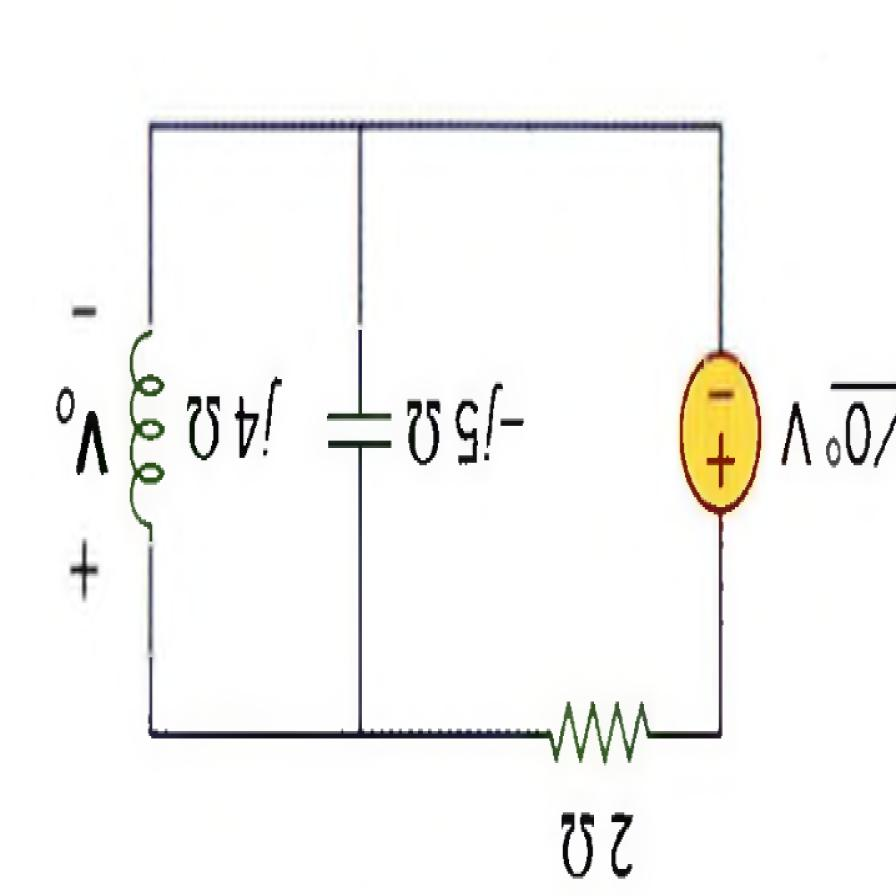C2: (321, 371, 396, 480)
L2: (120, 310, 172, 543)
R1: (541, 673, 653, 774)
V3: (674, 342, 762, 527)
